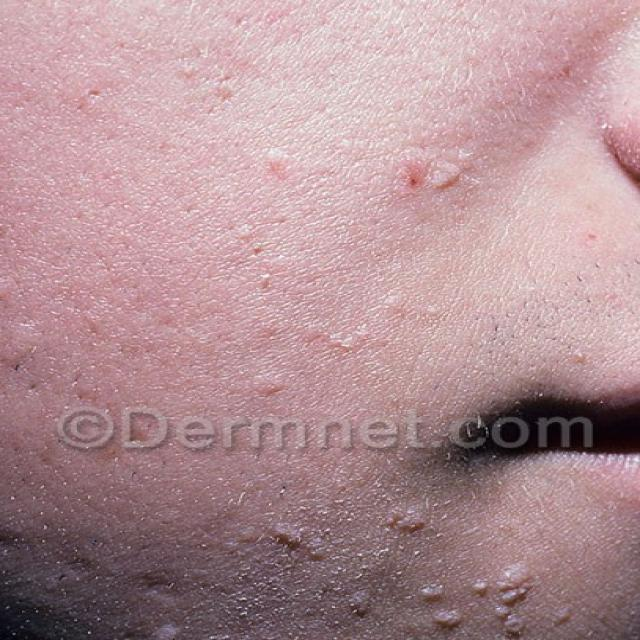Warts: (212, 474, 618, 640), (194, 285, 436, 401), (263, 137, 521, 223), (0, 273, 68, 415), (61, 604, 206, 640)
